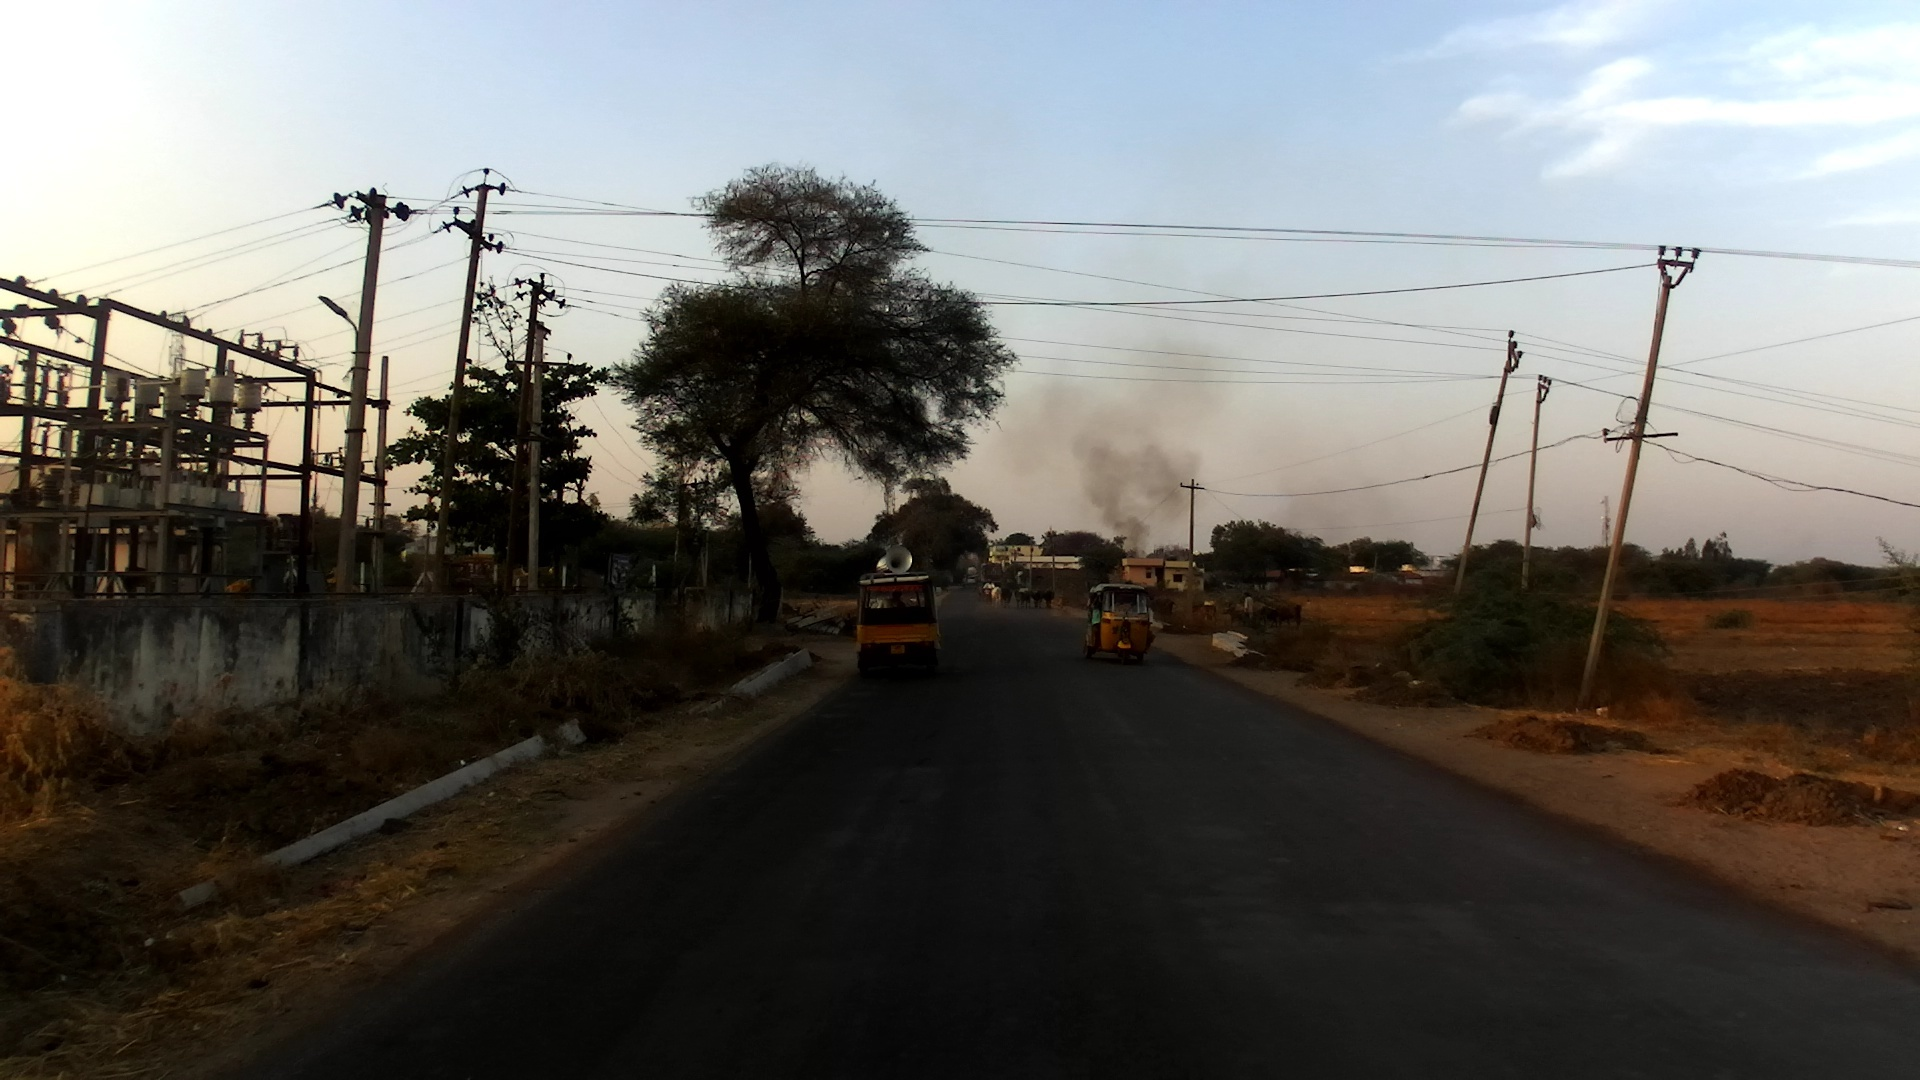animal: (1222, 599, 1268, 635), (1267, 596, 1302, 628), (1191, 600, 1221, 625), (1152, 596, 1178, 616), (1012, 586, 1032, 608), (1261, 609, 1284, 629), (1042, 586, 1058, 609), (988, 585, 1002, 610), (1030, 587, 1045, 607), (1002, 586, 1014, 604)
autorickshaw: (846, 549, 947, 680), (1082, 578, 1159, 667)
person: (1243, 591, 1257, 628), (979, 579, 994, 606)
truck: (977, 562, 1006, 598)
vehicle fallback: (960, 565, 981, 589)
